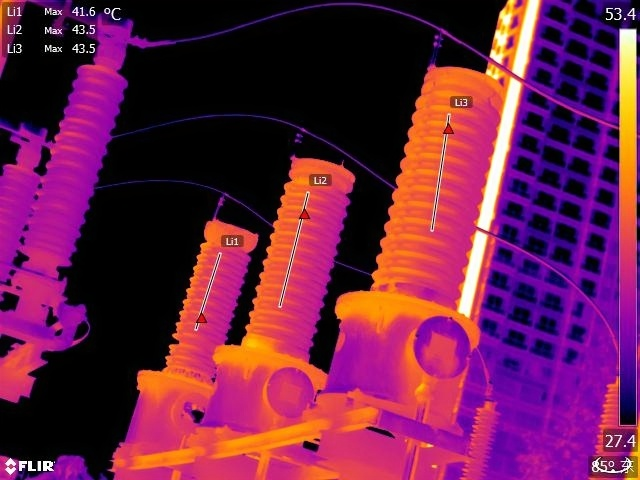lightning arrester: (589, 374, 632, 480), (461, 397, 505, 480)
potential transformer: (325, 55, 511, 418), (201, 125, 365, 425), (119, 173, 262, 459)
